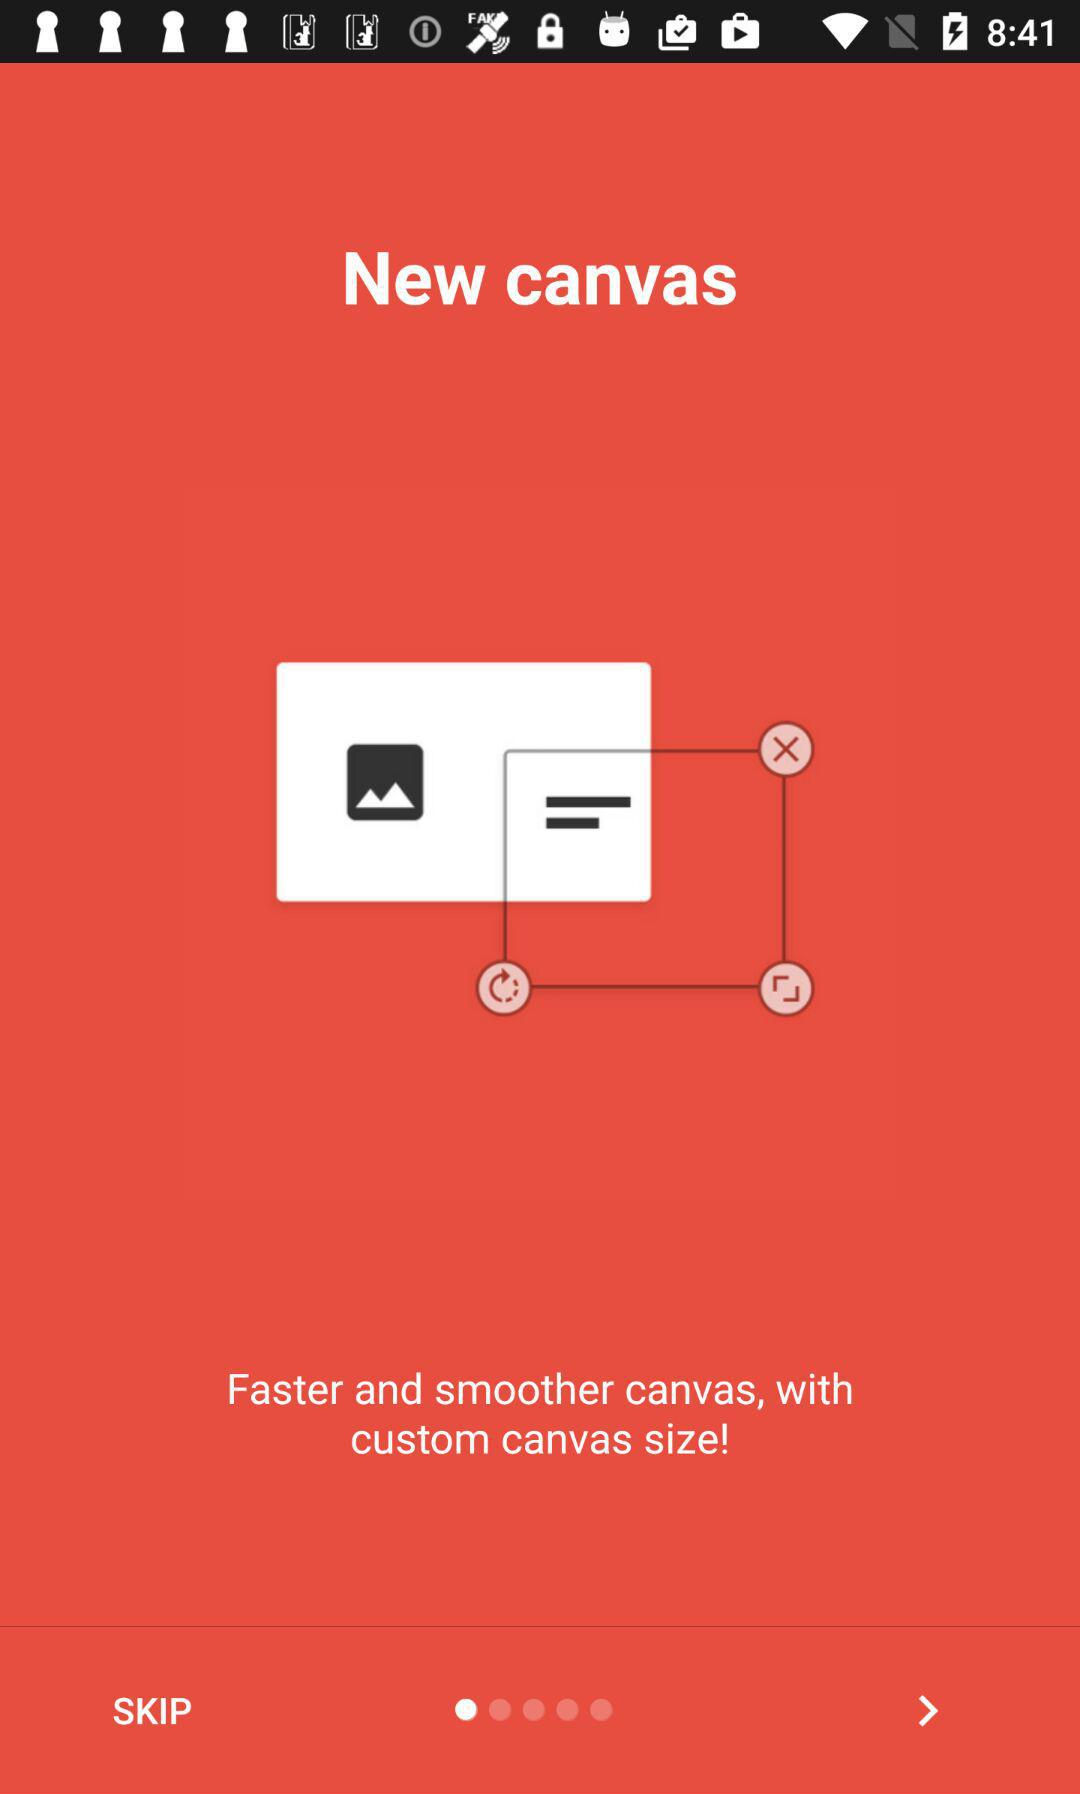Icon: (917, 1694, 940, 1727)
Image: (275, 662, 815, 1017)
PageIndicator: (454, 1697, 616, 1724)
Text: (229, 1371, 853, 1456), (345, 252, 738, 308), (114, 1697, 193, 1725)
UpperTaskBar: (1, 1, 1080, 64)
